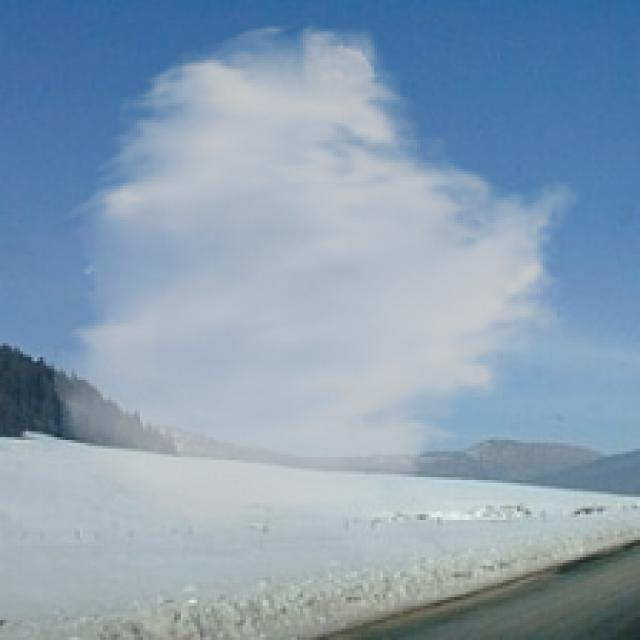Smoke: (48, 20, 583, 540)
